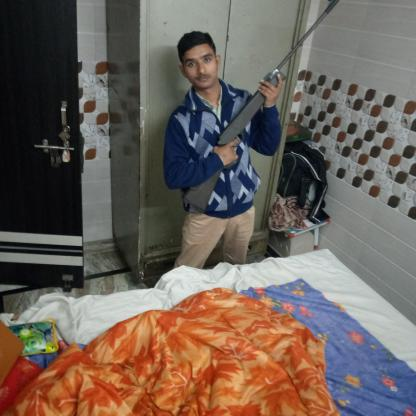rifle: (180, 0, 339, 216)
